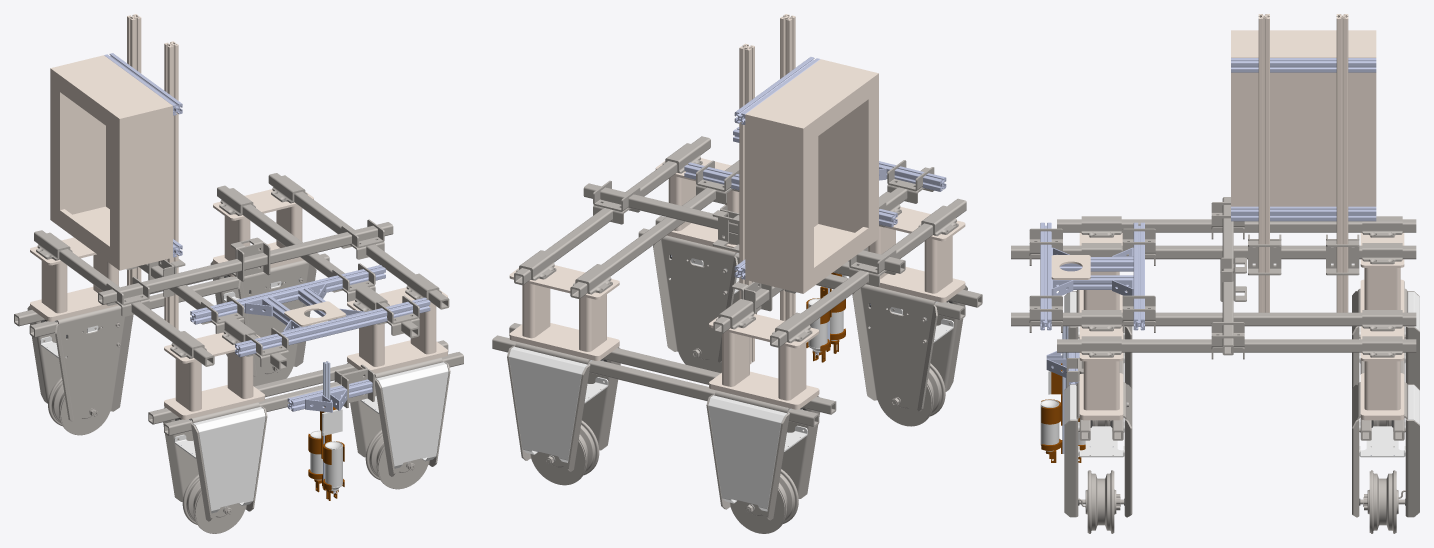
Rendered from mid_level_asm.dae.
3 renders of one model, left to right at view 1: azimuth 30°, elevation 25°; view 2: azimuth 150°, elevation 25°; view 3: azimuth 270°, elevation 25°, orthographic. The views are drawn at different scales.
Visible parts, largest first — view 1: 10000_Assy, Smartfork-DIS (×12), sw24_Box, sw24_Riser (×4), sw24_sw-tubing (×8), sw24_Tslot40x40x92 (×6), Part 1 (×7), MultiClamp (×2), sw24_alumplatformforarm, Solid1[1]; view 2: 10000_Assy, Smartfork-DIS (×12), sw24_Box, sw24_Riser (×4), sw24_sw-tubing (×9), sw24_Tslot40x40x92 (×5), Part 1 (×6), MultiClamp; view 3: sw24_Box, sw24_Tslot40x40x92 (×8), sw24_sw-tubing (×5), 10000_Assy, Smartfork-DIS (×10), sw24_Riser (×4), Part 1 (×8), MultiClamp (×7), sw24_alumplatformforarm, Solid1[1].
Boxes of the visible parts, x1,y1,x2,y2 form: 10000_Assy, Smartfork-DIS (×12): (27,260,450,533); sw24_Box: (50,55,172,270); sw24_Riser (×4): (30,189,447,419); sw24_sw-tubing (×8): (29,173,463,435); sw24_Tslot40x40x92 (×6): (104,14,430,411); Part 1 (×7): (36,175,441,358); MultiClamp (×2): (237,242,374,407); sw24_alumplatformforarm: (284,301,345,326); Solid1[1]: (325,441,342,493); 10000_Assy, Smartfork-DIS (×12): (507,235,967,533); sw24_Box: (745,59,878,293); sw24_Riser (×4): (509,158,965,409); sw24_sw-tubing (×9): (492,136,982,427); sw24_Tslot40x40x92 (×5): (684,14,946,364); Part 1 (×6): (516,143,958,343); MultiClamp: (712,210,739,252); sw24_Box: (1231,30,1376,206); sw24_Tslot40x40x92 (×8): (1040,14,1376,330); sw24_sw-tubing (×5): (1011,197,1416,355); 10000_Assy, Smartfork-DIS (×10): (1064,288,1419,533); sw24_Riser (×4): (1079,232,1404,420); Part 1 (×8): (1081,216,1402,357); MultiClamp (×7): (1029,228,1359,347); sw24_alumplatformforarm: (1051,255,1090,279); Solid1[1]: (1040,399,1059,452).
Size of the model in its own units: 1.24 by 1.42 by 1.68.
